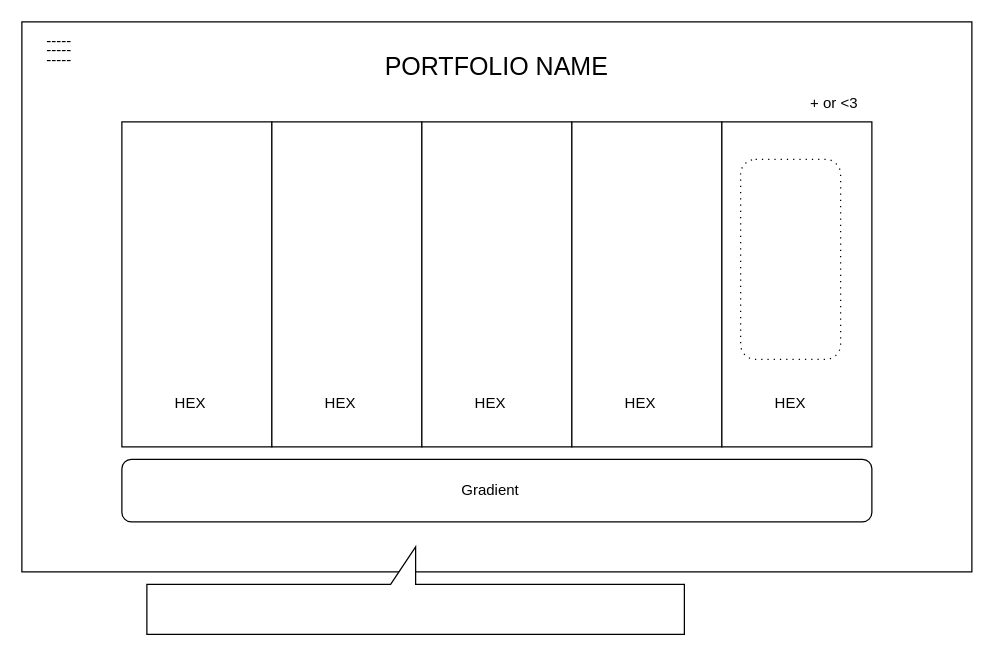
Some shapes in this 994 by 656 pixel diagram are drawn without their labels. The centre of each missing label's shape, as x and y in pixels:
"Lock Delete Save" belongs at (790,258).
"Option: Save as .ASE, .ASO, .GRD" belongs at (415,590).
